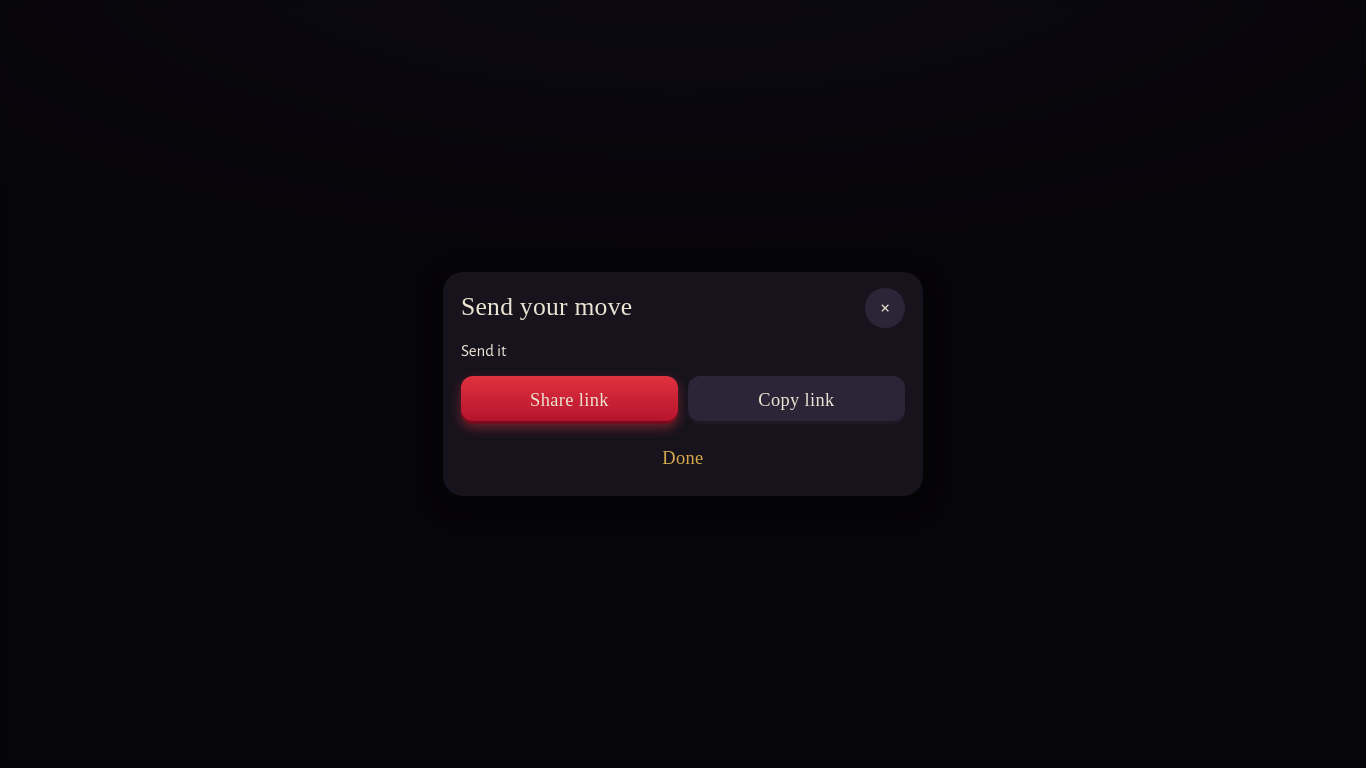
Test case: ShareMoveSheet › shares through the share sheet
The width and height of the screenshot is (1366, 768).
Click the button "Share link". click: (570, 400)
box: [461, 376, 678, 424]
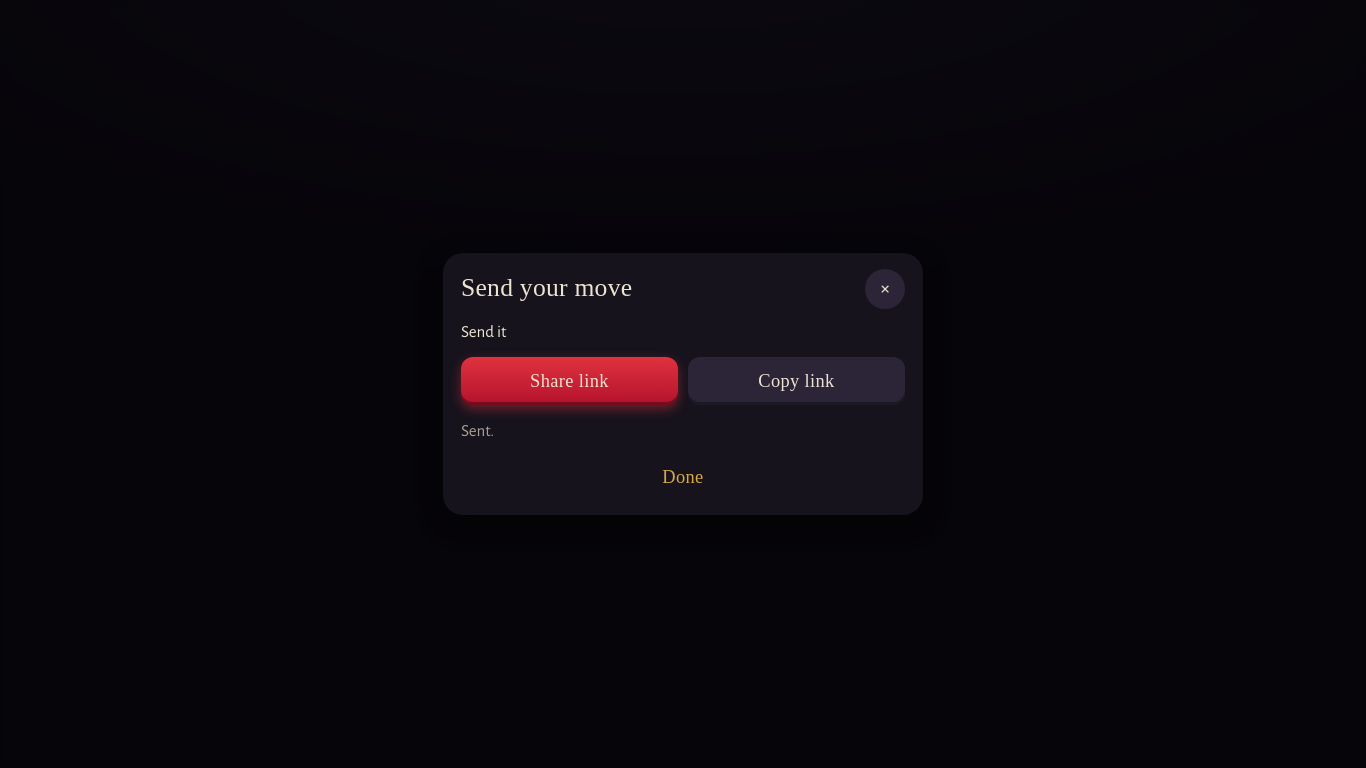
Result: the message reads "Sent." at [461, 422, 494, 439]
